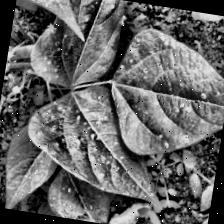Bean Rust: (18, 76, 181, 211), (100, 27, 224, 165), (27, 0, 127, 96)
